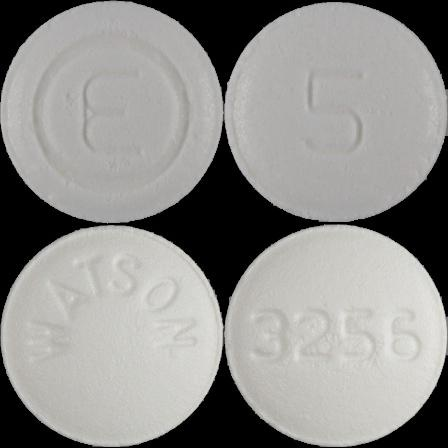63187-379: (0, 0, 224, 224)
